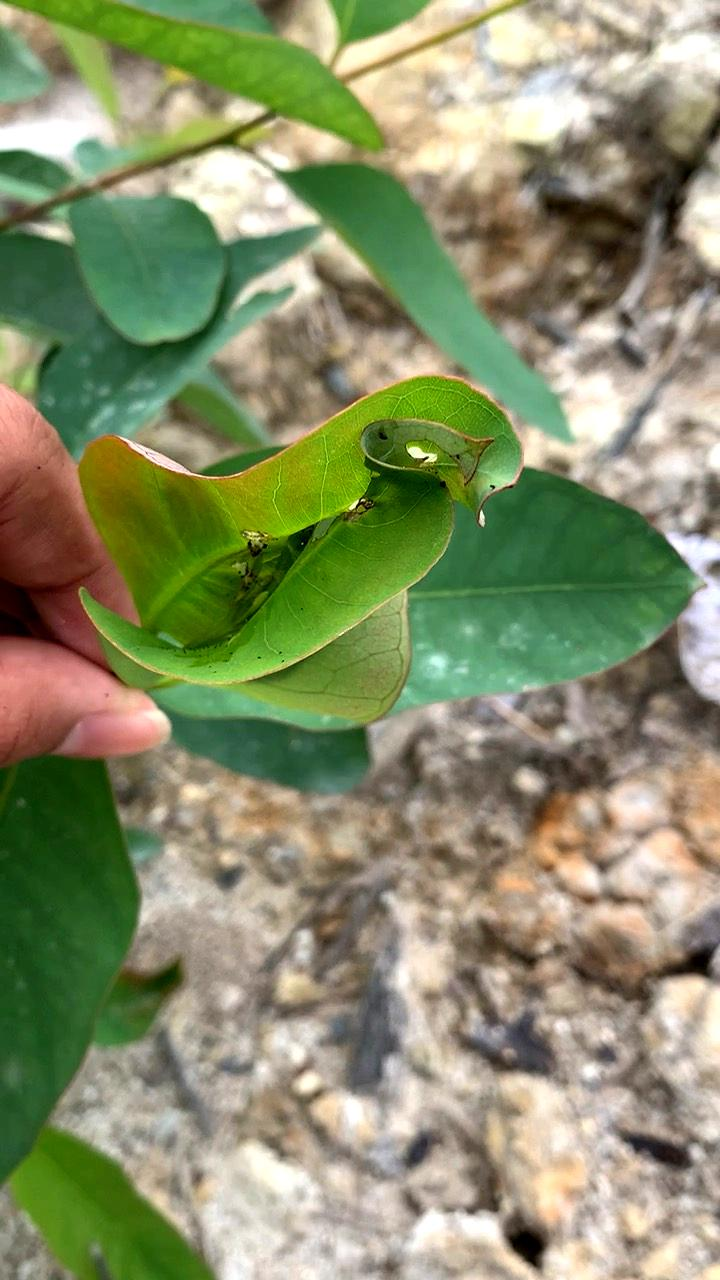Leaf Roller - Leaf: (43, 339, 589, 753)
